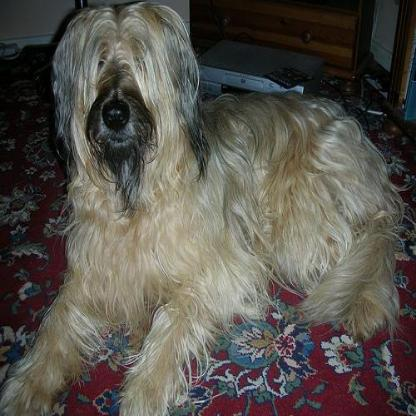briard: (0, 1, 402, 413)
